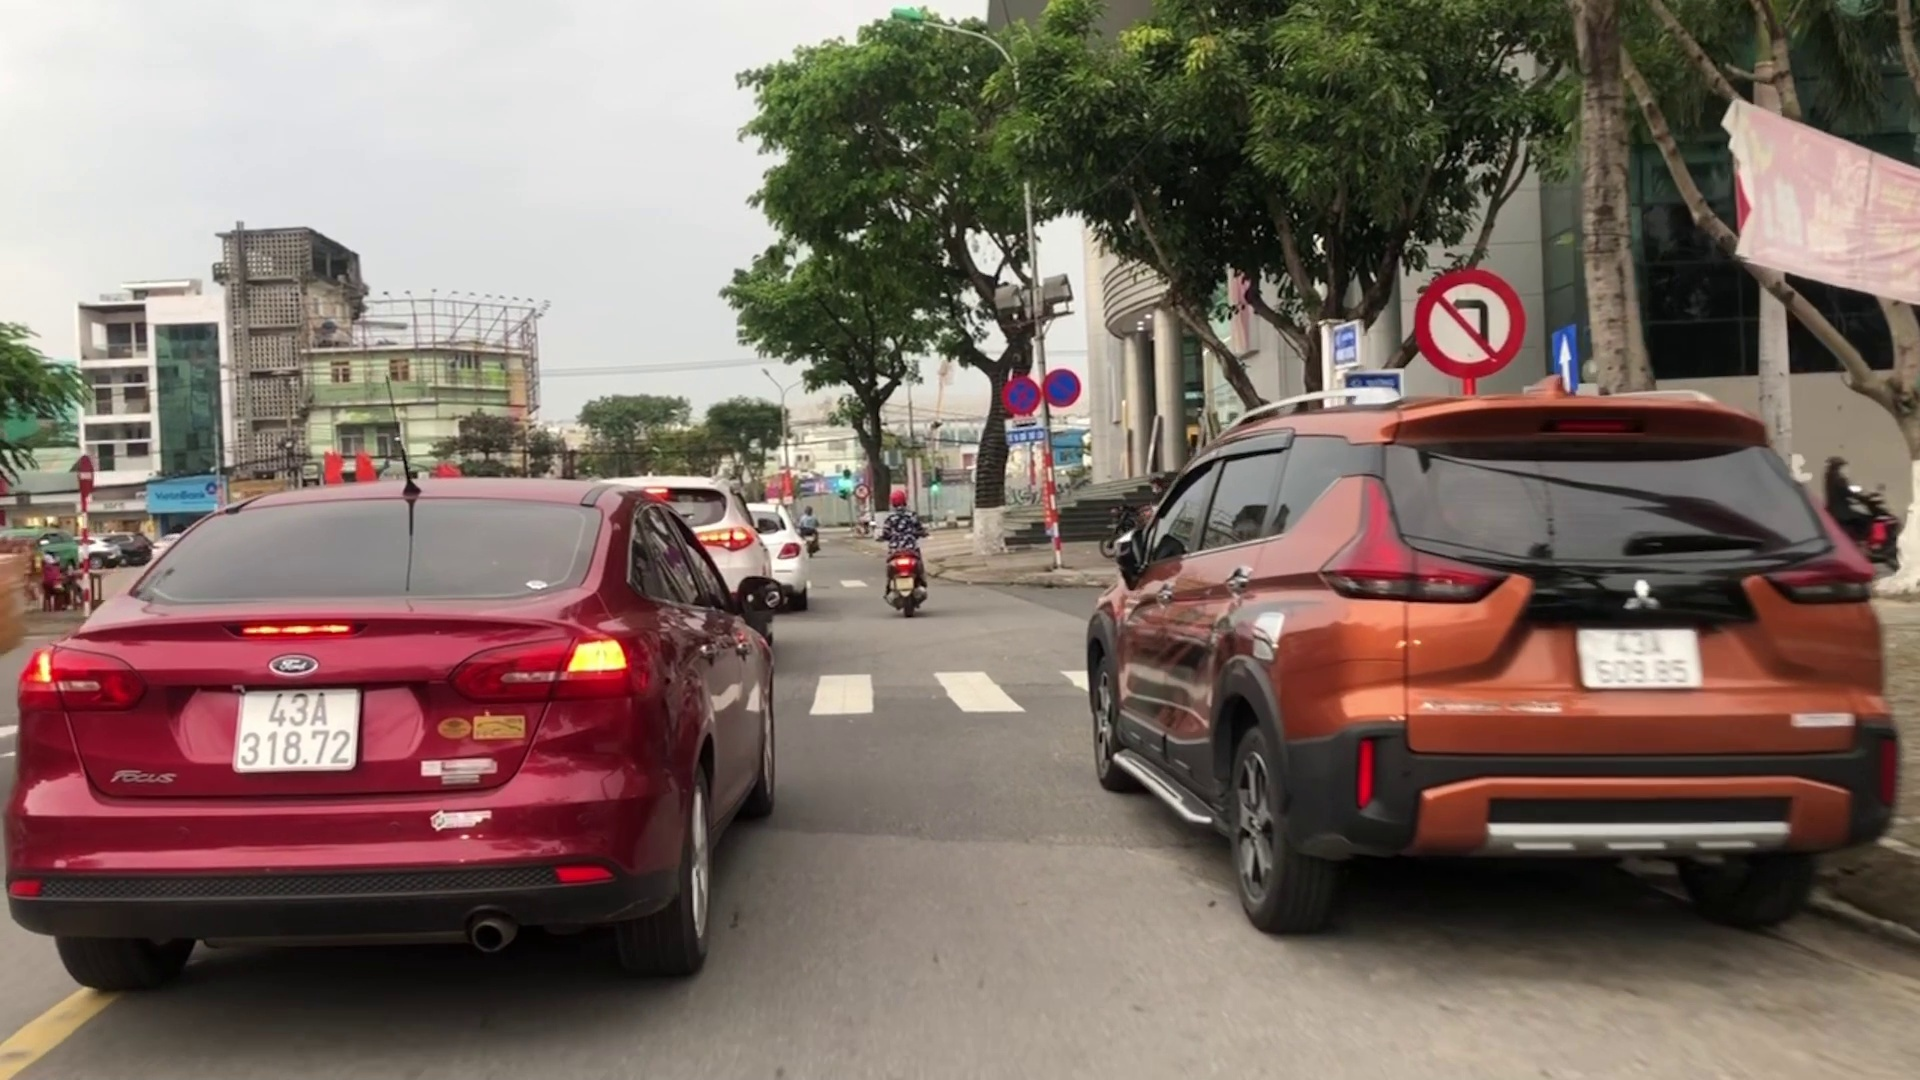Bien khac: (1410, 270, 1527, 376), (1545, 327, 1585, 401), (1000, 375, 1040, 415)
Cam do xe: (1042, 363, 1077, 409)
